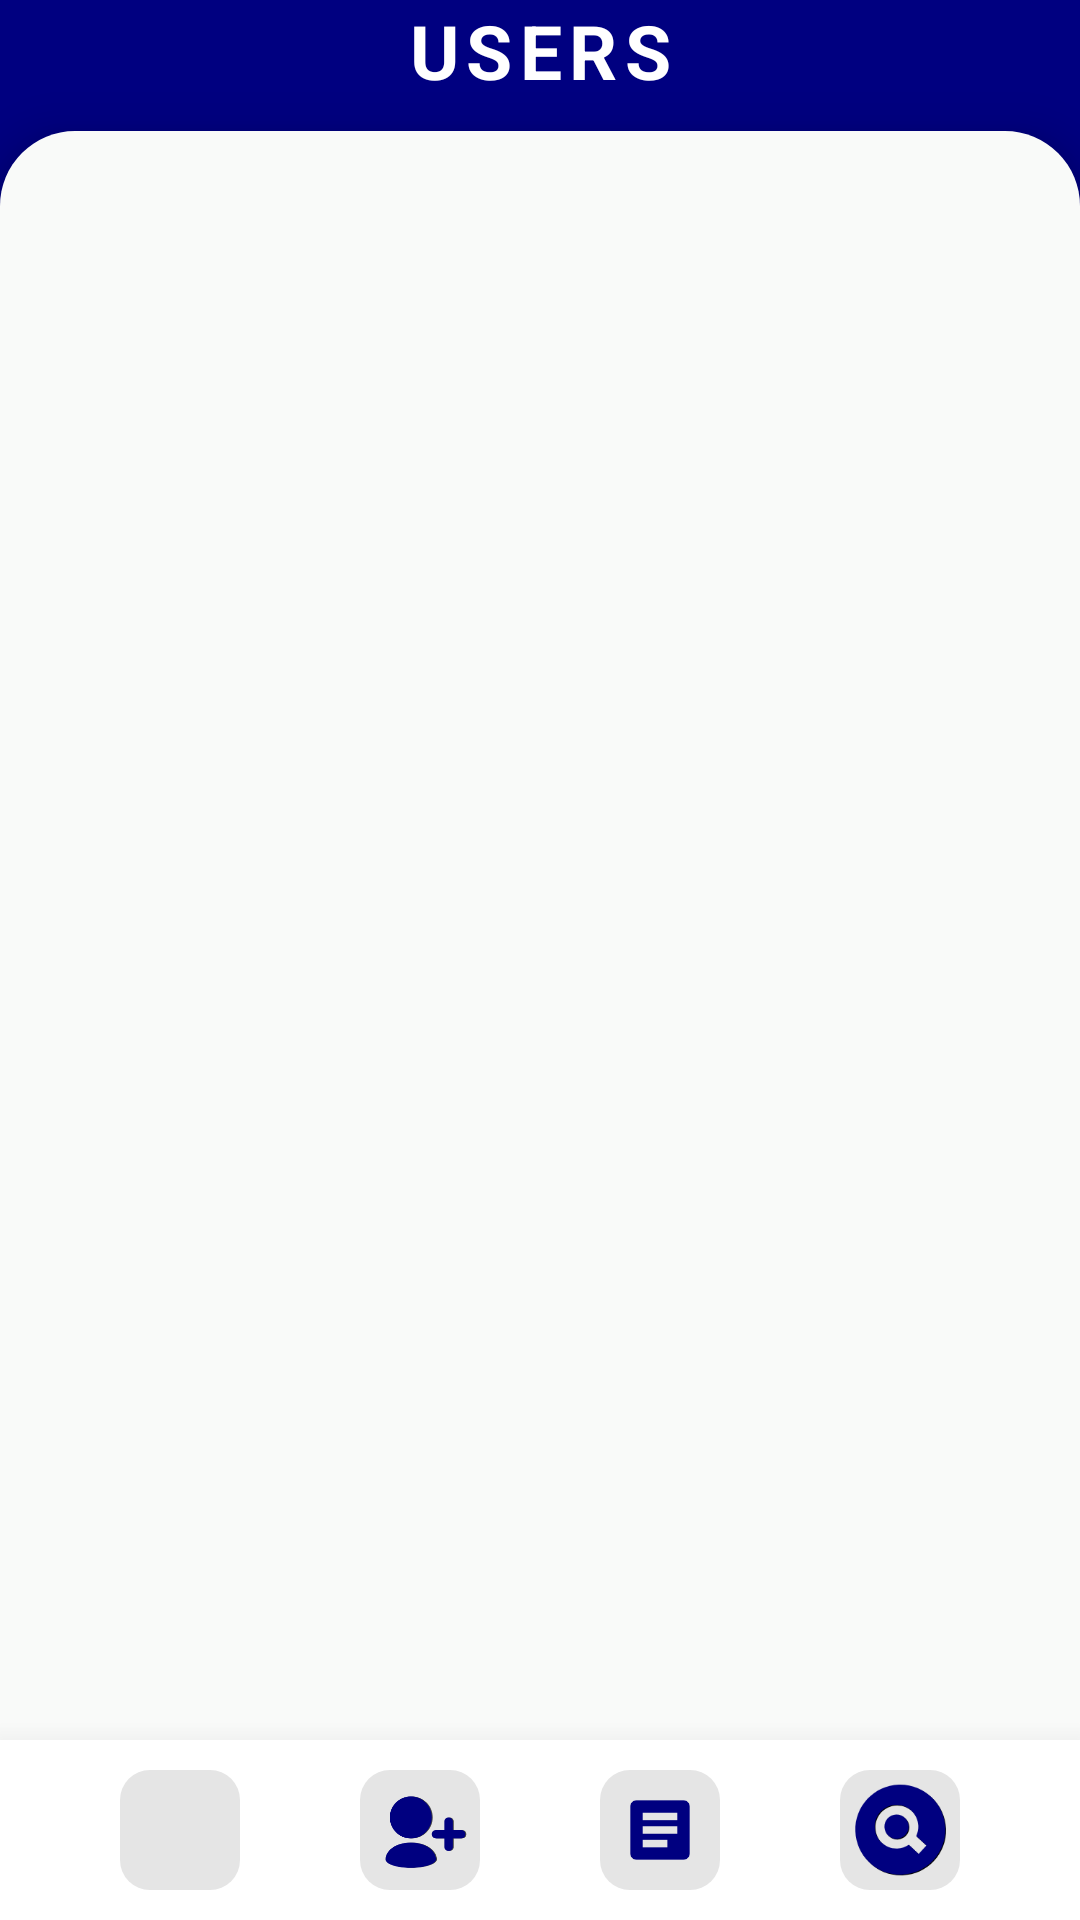

Locate icon controls on the screen. Image size 1080 x 1920, boxes as bbox(x1, y1, x2, y2).
add: bbox(360, 1770, 480, 1890)
search: bbox(840, 1770, 960, 1890)
show list: bbox(600, 1770, 720, 1890)
